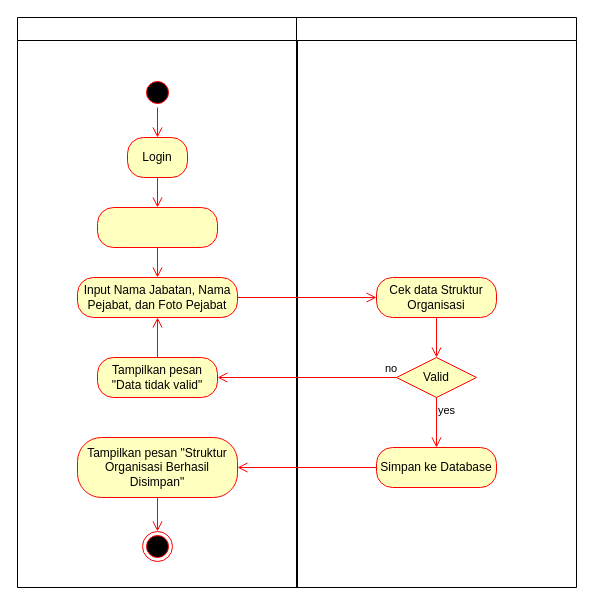
The diagram is 594 pixels wide and 605 high, and some of its shapes have lost their labels. Here are the shapes that lost their labels. From the top down, the box of each, then its label:
(96, 206, 218, 248): Buka Menu Struktur Organisasi
(16, 16, 298, 588): Admin
(296, 16, 576, 588): Sistem
